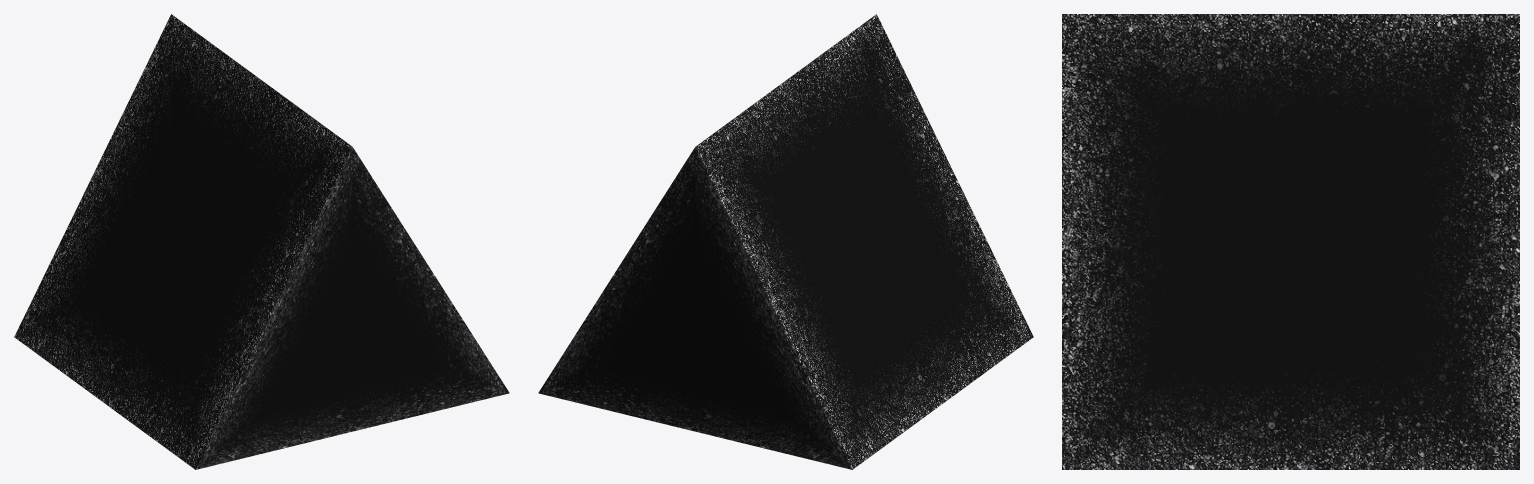
Rendered from Prism_01.fbx.
The picture shows the model from 3 angles, left to right: view 1: azimuth 30°, elevation 25°; view 2: azimuth 150°, elevation 25°; view 3: azimuth 270°, elevation 25°; orthographic projection. The views are drawn at different scales.
Visible parts, largest first — view 1: Prism001; view 2: Prism001; view 3: Prism001.
Boxes of the visible parts, <box> form: Prism001: <box>14,14,509,469</box>; Prism001: <box>538,14,1033,469</box>; Prism001: <box>1062,14,1519,469</box>.
Size of the model in its own units: 20 by 17.32 by 20.
1 material, 1 textured.
